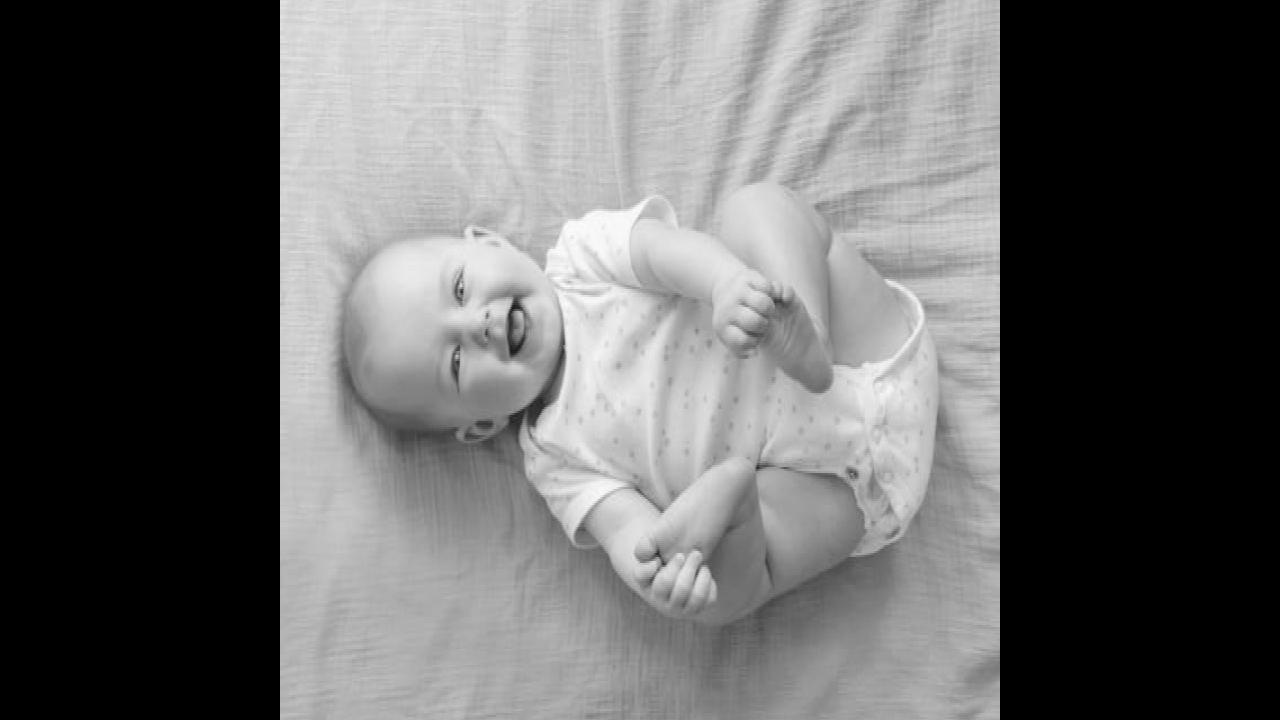hand: (703, 260, 773, 355), (631, 548, 725, 612)
